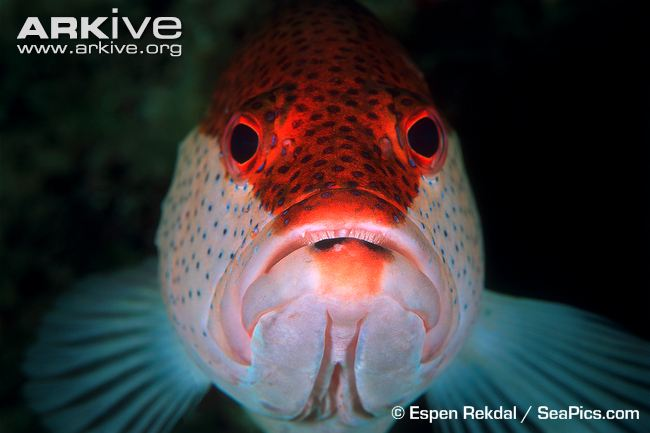Cephalopholis_fulvaw: (142, 3, 502, 418)
